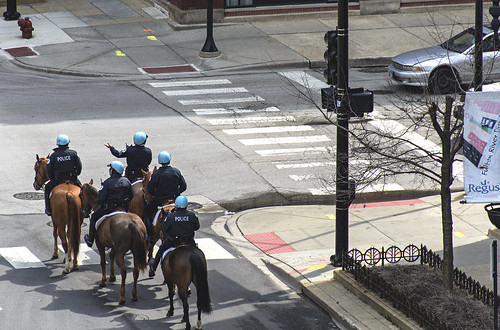animal: (85, 198, 153, 304), (31, 159, 89, 278), (151, 231, 215, 330)
car: (383, 27, 500, 90)
crosswalk: (157, 68, 391, 194)
policeman: (157, 195, 203, 254), (93, 158, 133, 221), (42, 132, 82, 185), (114, 133, 157, 181), (147, 153, 185, 203)
sidewalk: (229, 195, 500, 330), (19, 3, 458, 83)
street: (31, 83, 500, 193)
